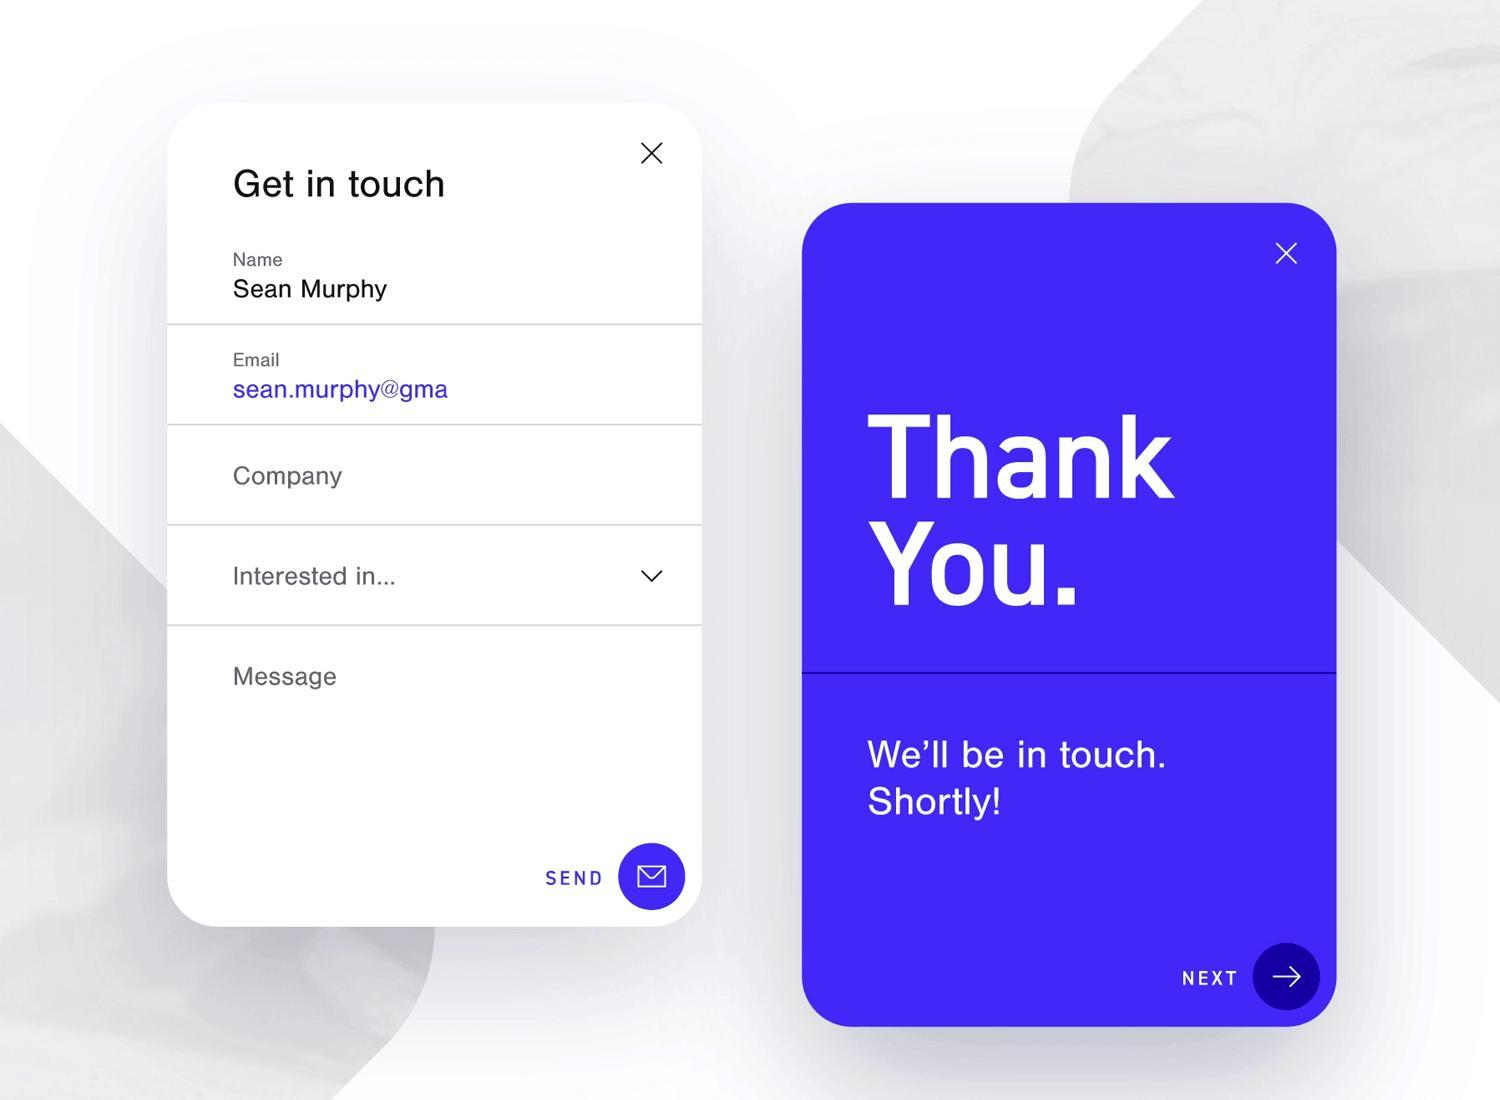button: (518, 849, 618, 914)
dropdown: (174, 523, 707, 627)
icon: (629, 854, 678, 899), (1268, 961, 1306, 994)
label: (1166, 964, 1243, 994)
